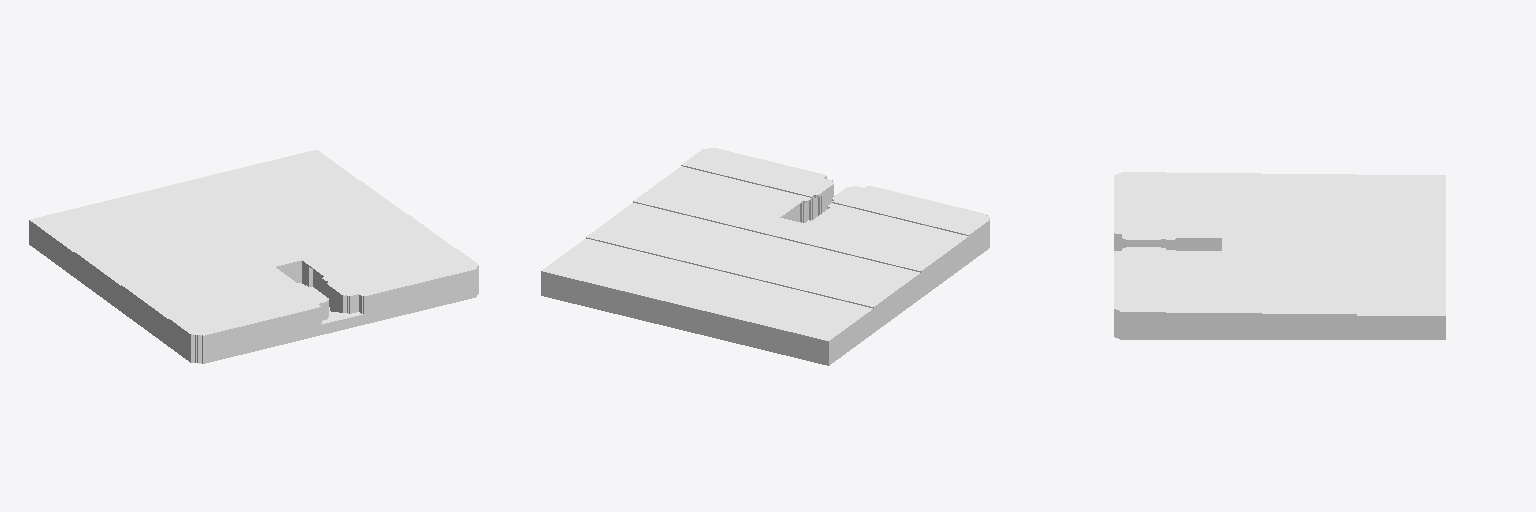
File: bigenter2.obj
3 views of the same model, side by side, from view 1: azimuth 30°, elevation 25°; view 2: azimuth 150°, elevation 25°; view 3: azimuth 270°, elevation 25° (orthographic).
Parts seen in each view (by area): view 1: object 1; view 2: object 1; view 3: object 1.
Part boxes in pixels (x1,y1,x2,y2): object 1: (29, 150, 478, 363); object 1: (541, 148, 989, 365); object 1: (1114, 172, 1445, 339).
Size of the model in its own units: 25.6 by 2.4 by 25.6.